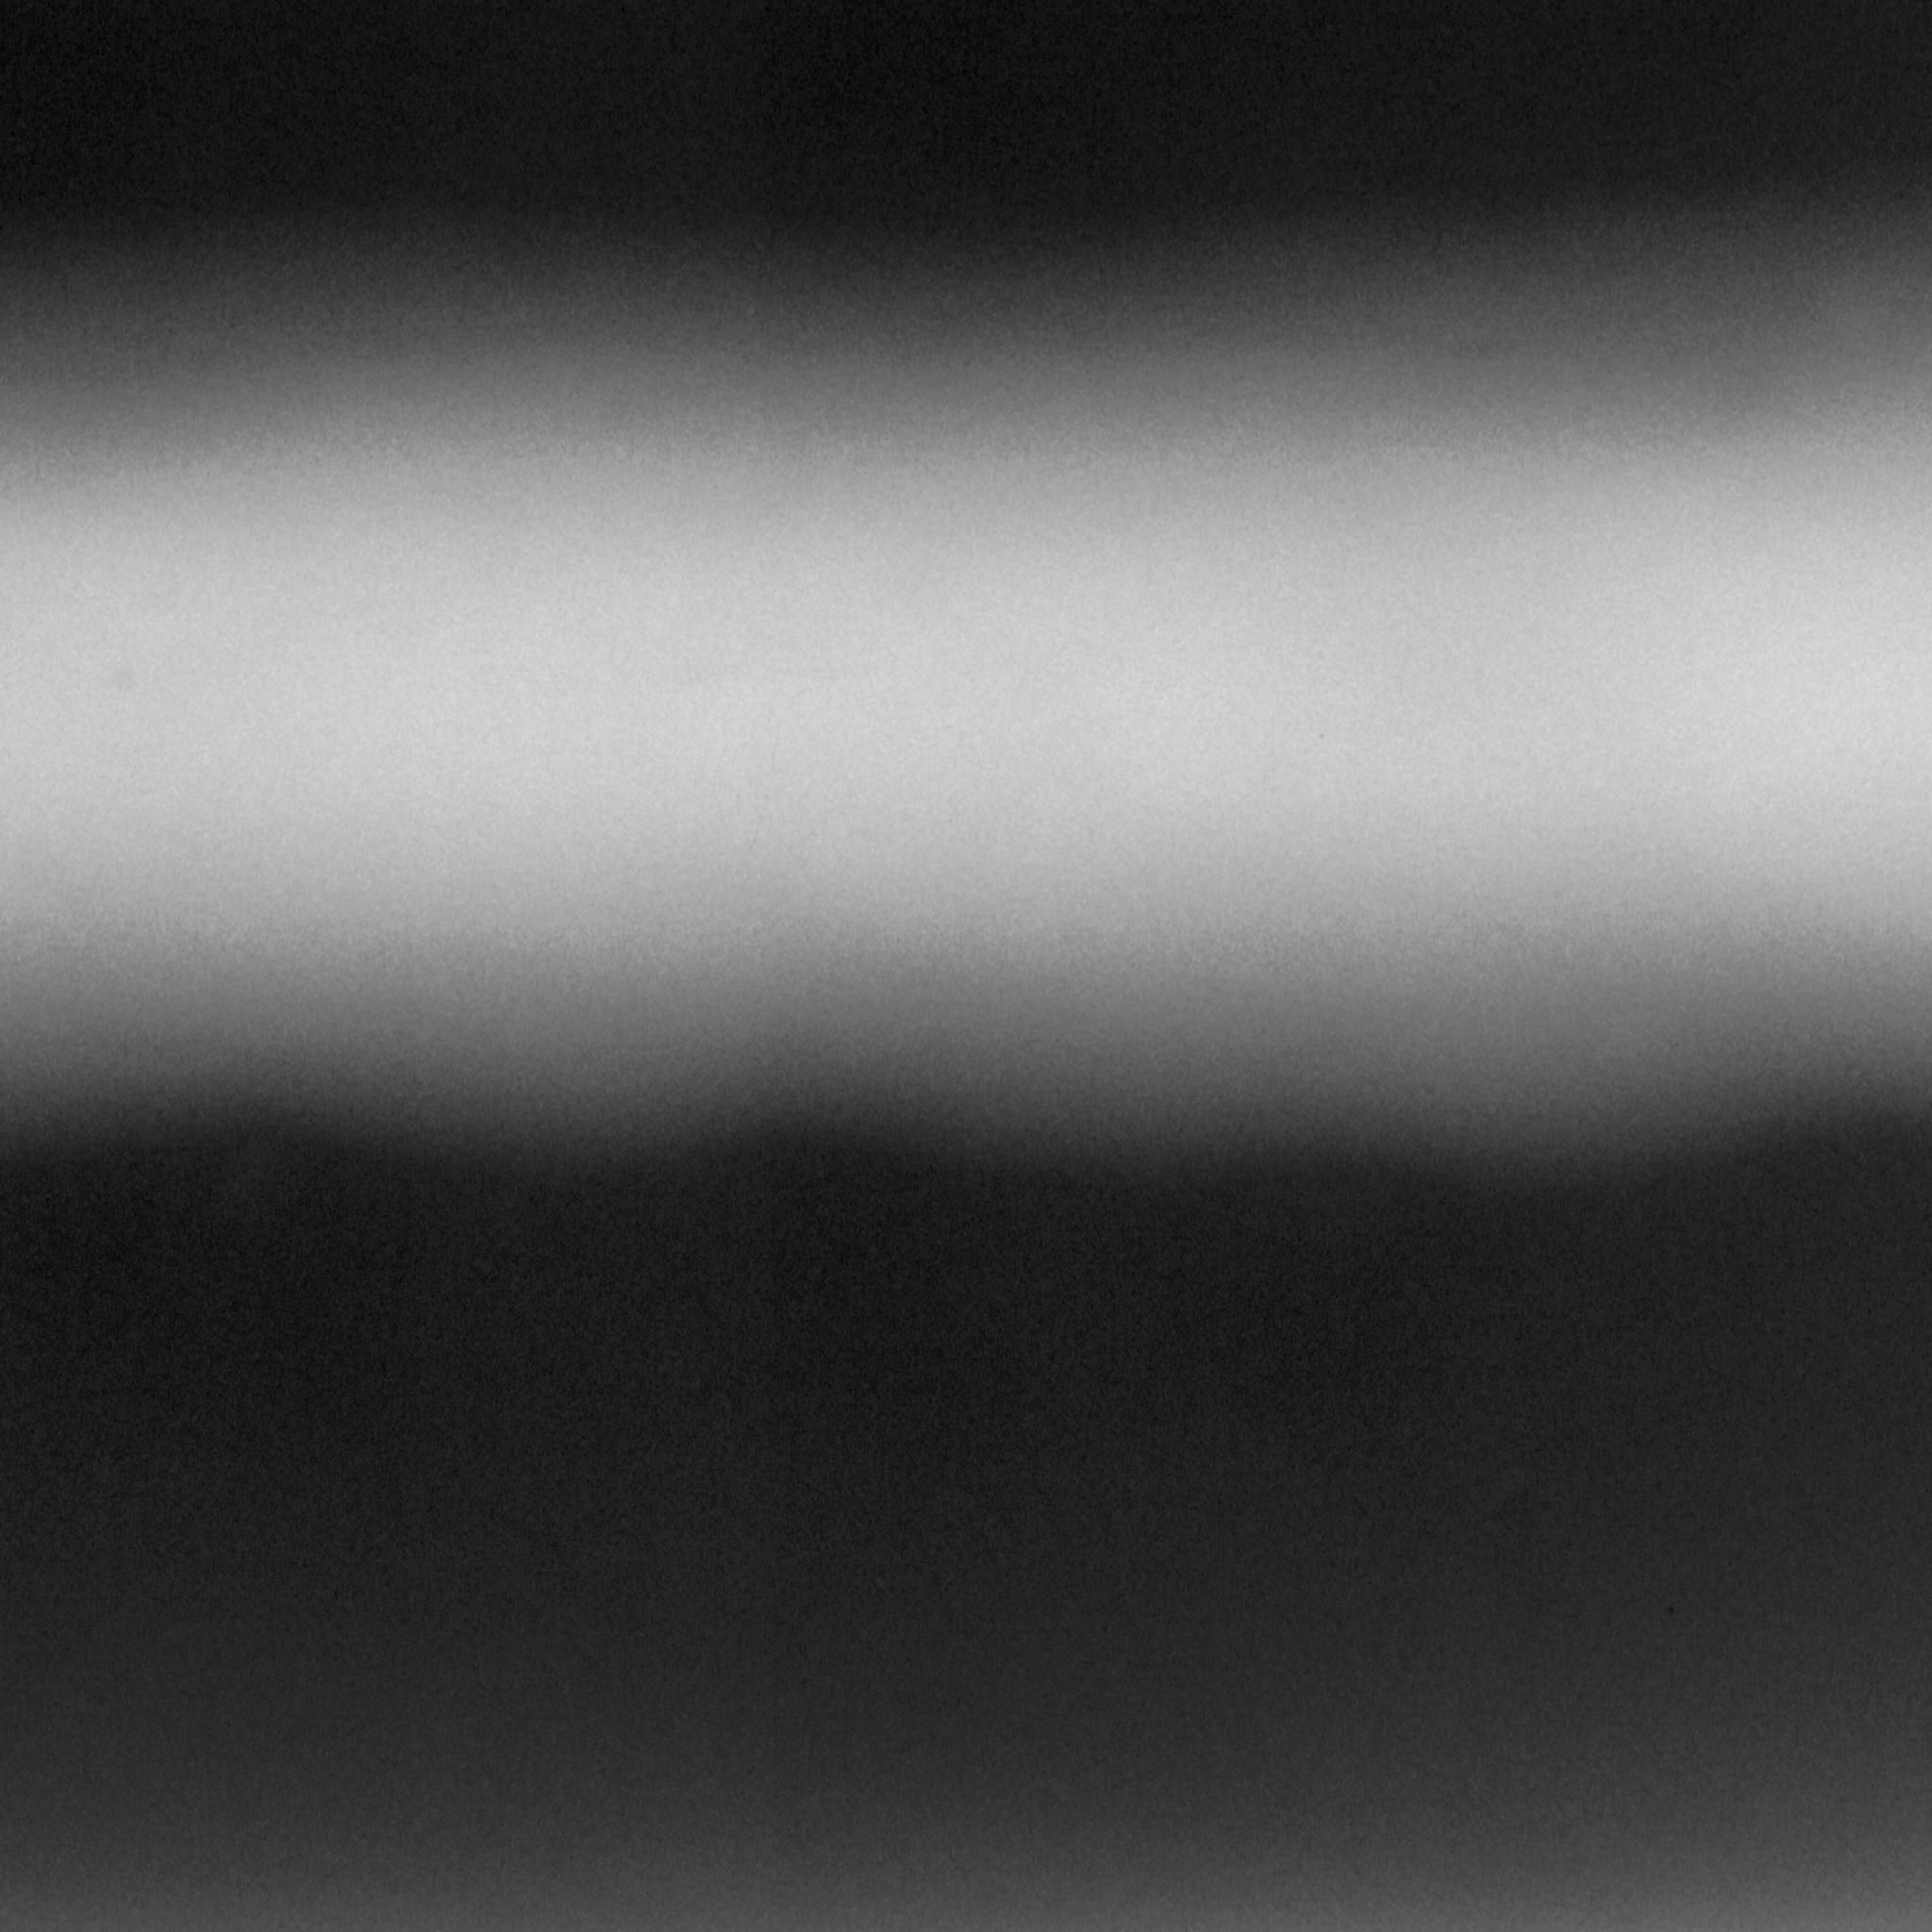PO: (95, 658, 156, 710)
Solda Ruim: (563, 604, 943, 742)
